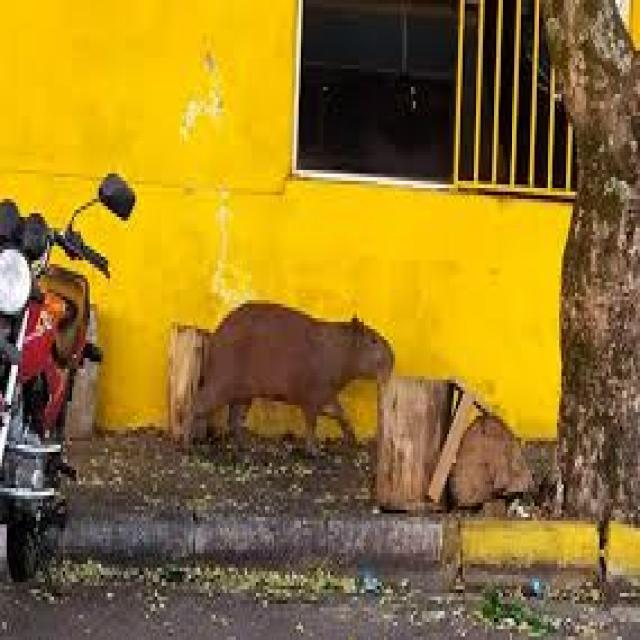capy: (189, 297, 395, 459)
